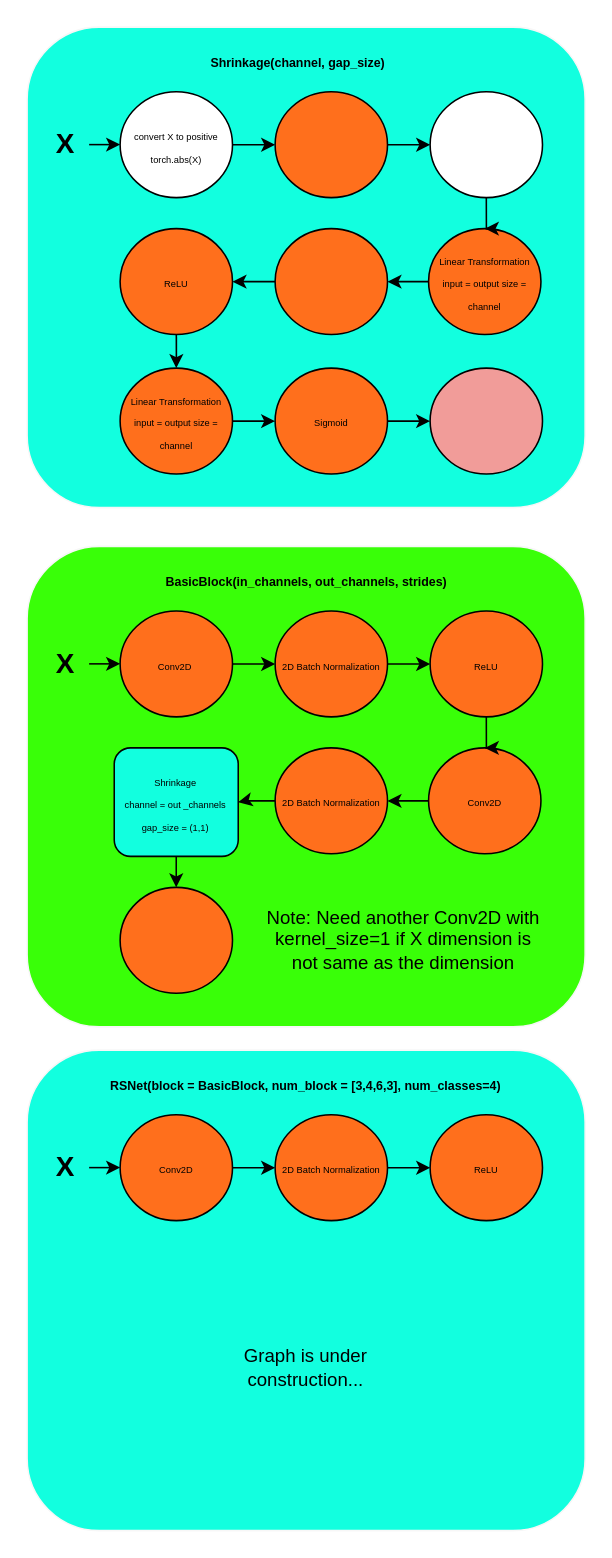
Image size: 612x1558. Some labels were removed from this diagram. Here are the shapes that lost their labels. From the top down, the box of each, then its label:
(274, 90, 388, 198): 2D Average Pool size = gap_size
(429, 90, 542, 198): flattening X start_dim = 1
(274, 227, 388, 334): 1D Batch Normalization batch size = channel
(429, 367, 542, 474): Soft Thresholding ???
(119, 886, 232, 993): ReLU X_output + X
